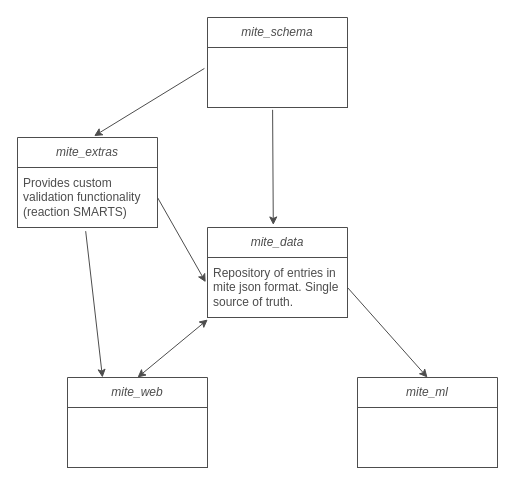
Some shapes in this 515 by 485 pixel diagram are drawn without their labels. The centre of each missing label's shape, as x and y in pixels:
"API to make mite_data accessible to machine learning tools" belongs at (427,437).
"Defines the mite json schema (allowed fields) and schema validation" belongs at (277,77).
"Web presence of MITE, allows submissions to mite data" belongs at (137,437).
